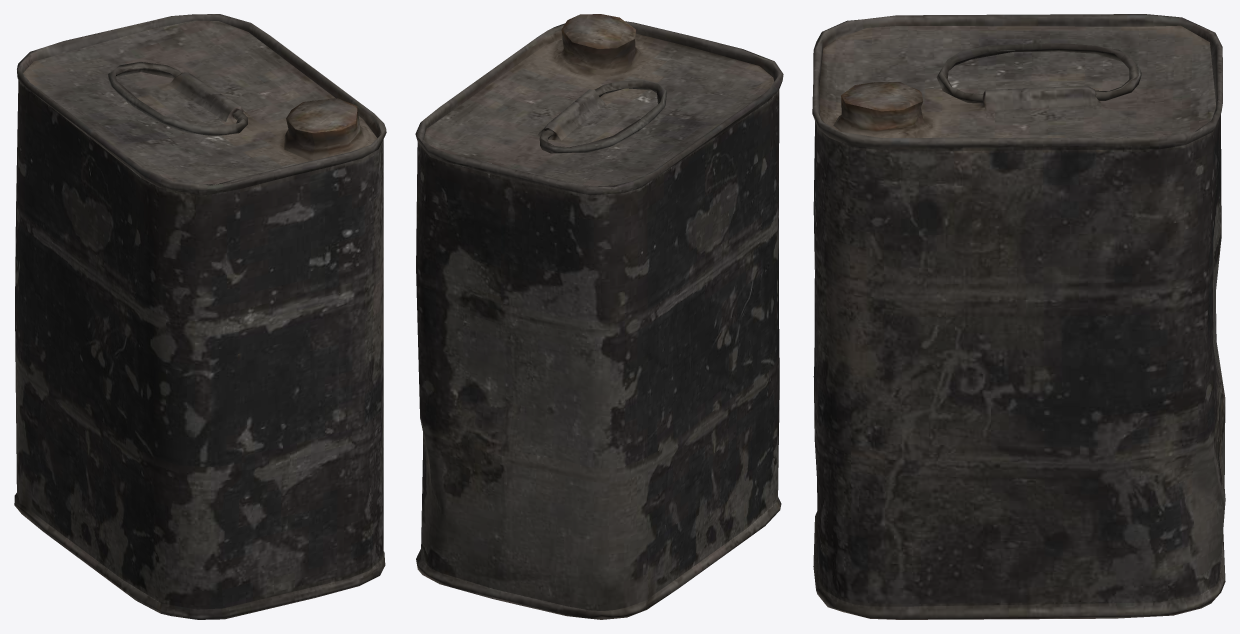
File: oil_tin.slim.glb
The picture shows the model from 3 angles, left to right: view 1: azimuth 30°, elevation 25°; view 2: azimuth 150°, elevation 25°; view 3: azimuth 270°, elevation 25°; orthographic projection. The views are drawn at different scales.
Bounding box in the file's own units: 0.1147 × 0.2054 × 0.1535.
Materials: 1 (1 with a texture image).
